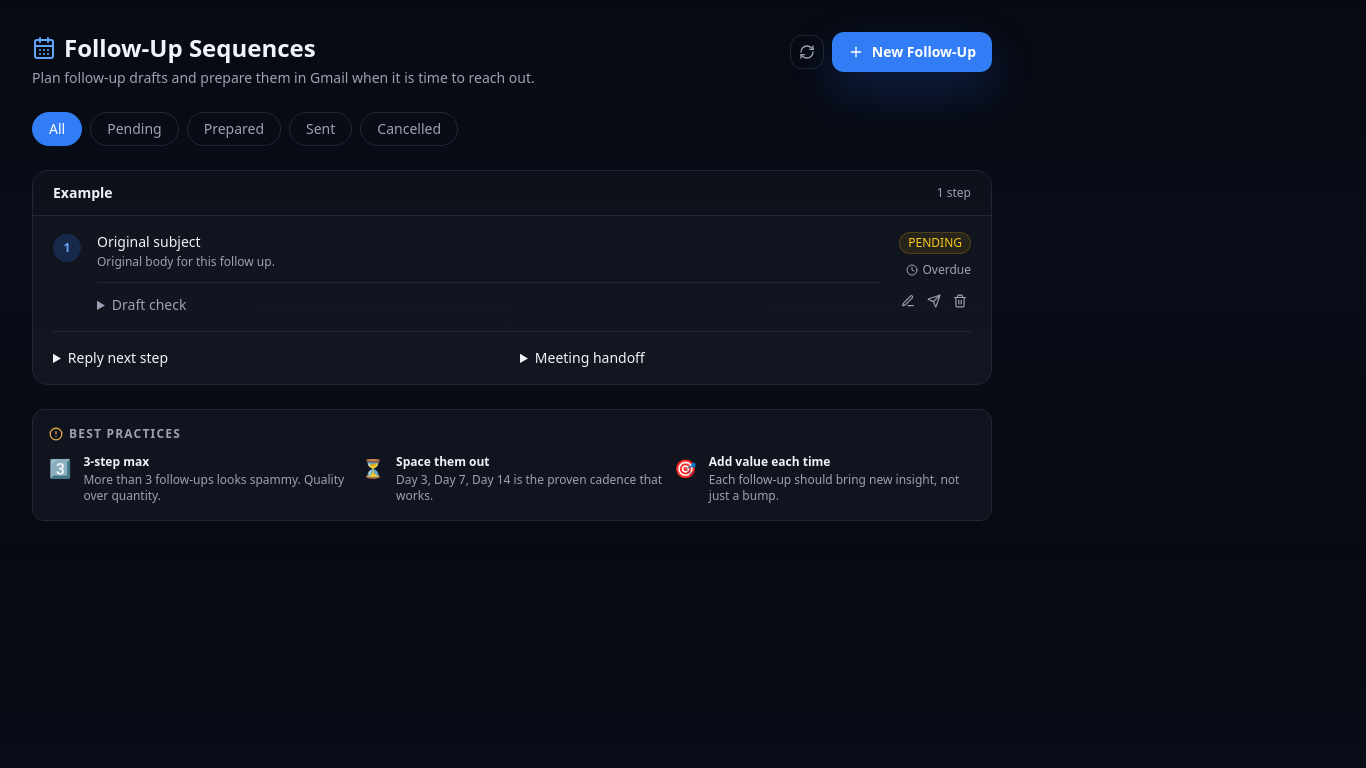
does not autosave on blur and keeps edits after a failed save
Click the button named "Edit follow-up" at (908, 301), box [897,290,919,312]
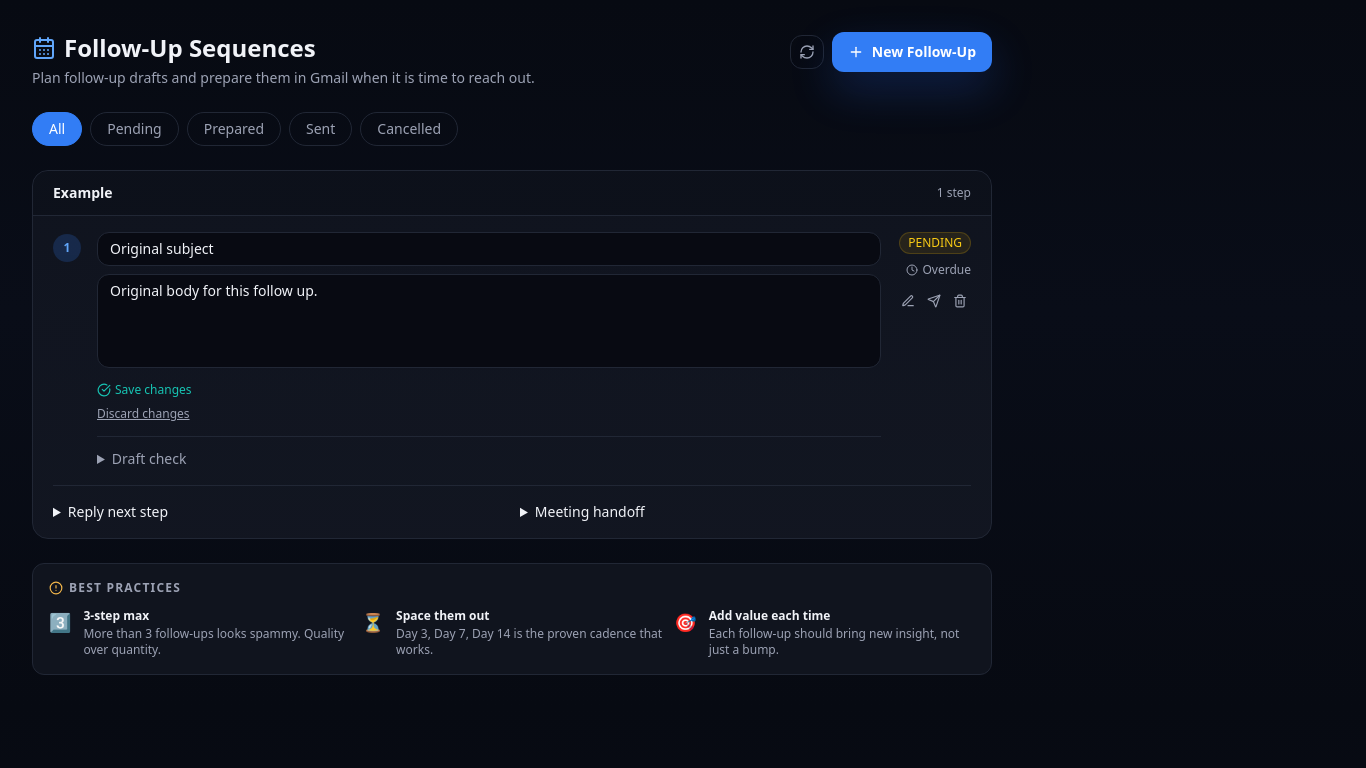
Replace the text in the field named "Edit subject" with "My updated subject" at (489, 249), box [97,232,881,266]
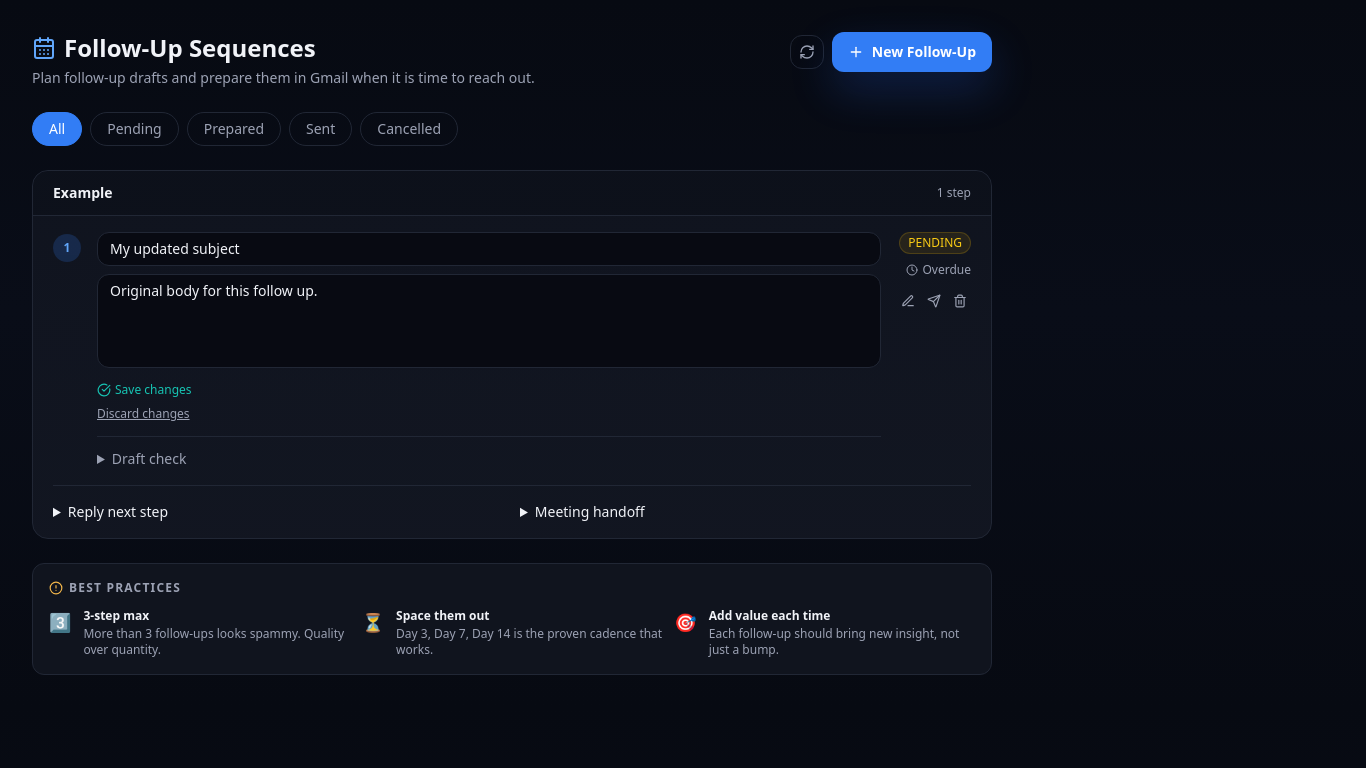
Click the button "Save changes" at (144, 390), box [97,382,192,398]
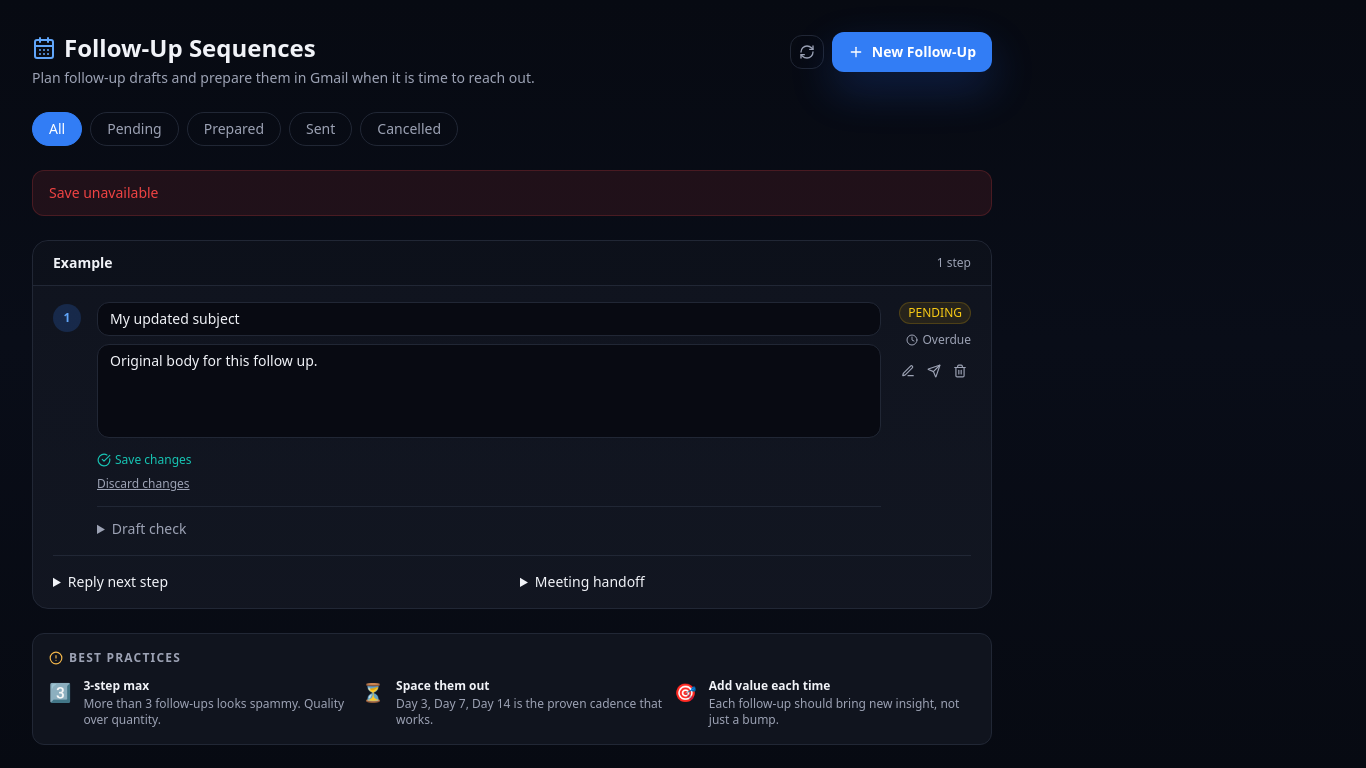
Now the text box named "Edit body" holds "Original body for this follow up.", box [97,344,881,438]
Now the message reads "Save unavailable", box [49,183,158,202]
